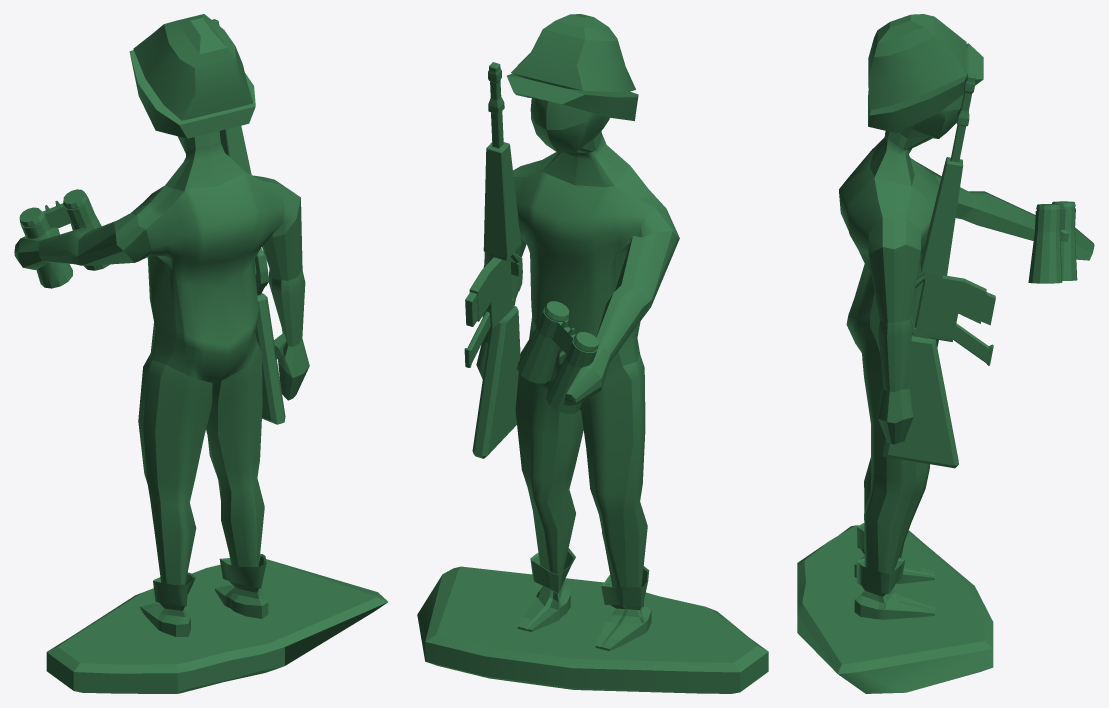
Rendered from soldaatje texture.fbx.
3 views of the same model, side by side, from view 1: azimuth 30°, elevation 25°; view 2: azimuth 150°, elevation 25°; view 3: azimuth 270°, elevation 25° (orthographic). The views are drawn at different scales.
Visible parts, largest first — view 1: pCube12; view 2: pCube12; view 3: pCube12.
Part boxes in pixels (x1,y1,x2,y2): pCube12: (14,14,387,693); pCube12: (417,14,768,693); pCube12: (797,14,1094,693).
Size of the model in its own units: 3.48 by 6.68 by 2.96.
